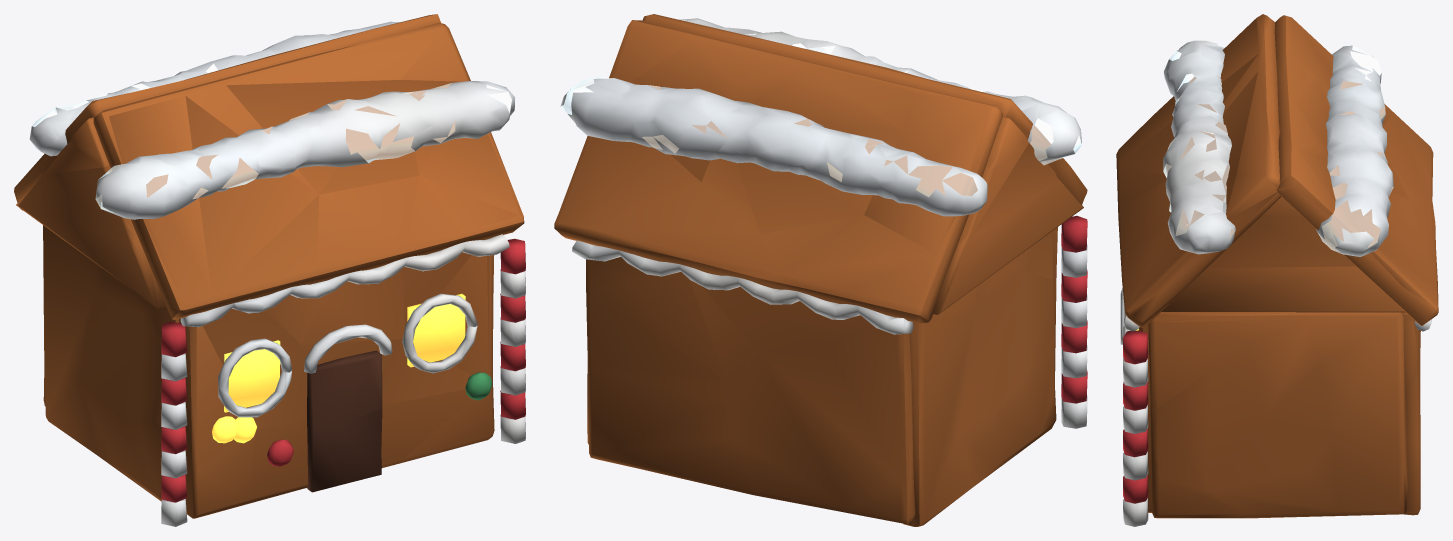
Rendered from frost_gingerbread_house_lod1.glb.
3 views of the same model, side by side, from view 1: azimuth 30°, elevation 25°; view 2: azimuth 150°, elevation 25°; view 3: azimuth 270°, elevation 25° (orthographic). The views are drawn at different scales.
Parts seen in each view (by area): view 1: frost_gingerbread_house.001; view 2: frost_gingerbread_house.001; view 3: frost_gingerbread_house.001.
Boxes of the visible parts, bbox=[...] form: frost_gingerbread_house.001: bbox=[14, 14, 525, 526]; frost_gingerbread_house.001: bbox=[554, 14, 1087, 526]; frost_gingerbread_house.001: bbox=[1116, 14, 1438, 526].
Bounding box in the file's own units: 16.15 × 13.73 × 11.31.
